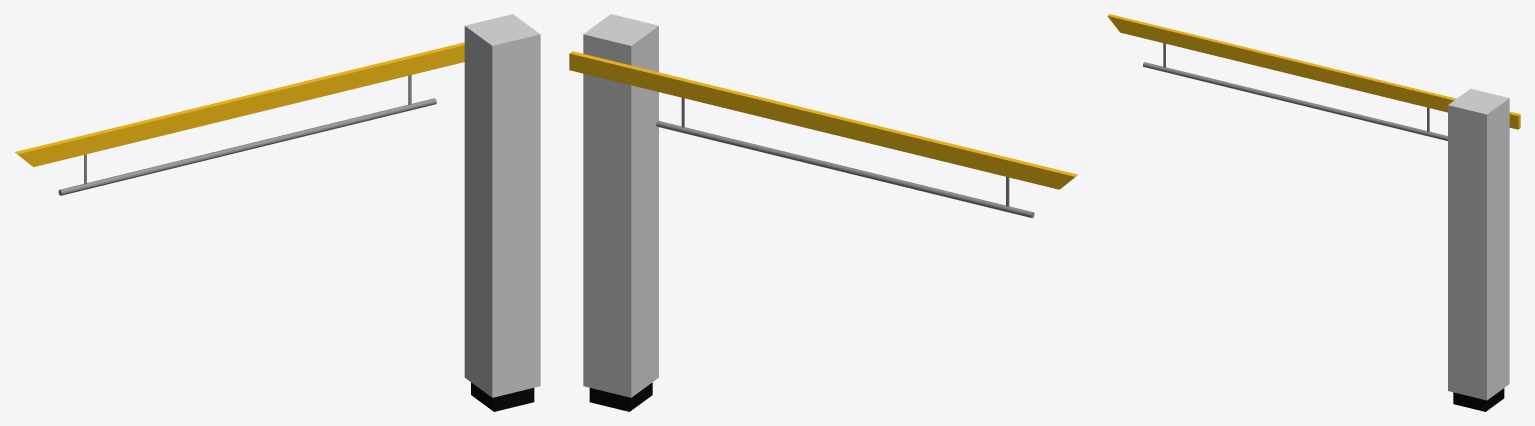
File: drive_thru_entrance.FBX
3 views of the same model, side by side, from view 1: azimuth 30°, elevation 25°; view 2: azimuth 150°, elevation 25°; view 3: azimuth 330°, elevation 25° (orthographic). The views are drawn at different scales.
Parts seen in each view (by area): view 1: drive_thru_entrance; view 2: drive_thru_entrance; view 3: drive_thru_entrance.
Part boxes in pixels (left/top/right/bottom): drive_thru_entrance: left=15, top=14, right=540, bottom=411; drive_thru_entrance: left=569, top=14, right=1077, bottom=411; drive_thru_entrance: left=1107, top=14, right=1520, bottom=411.
Bounding box in the file's own units: 482 × 335 × 50.8.
